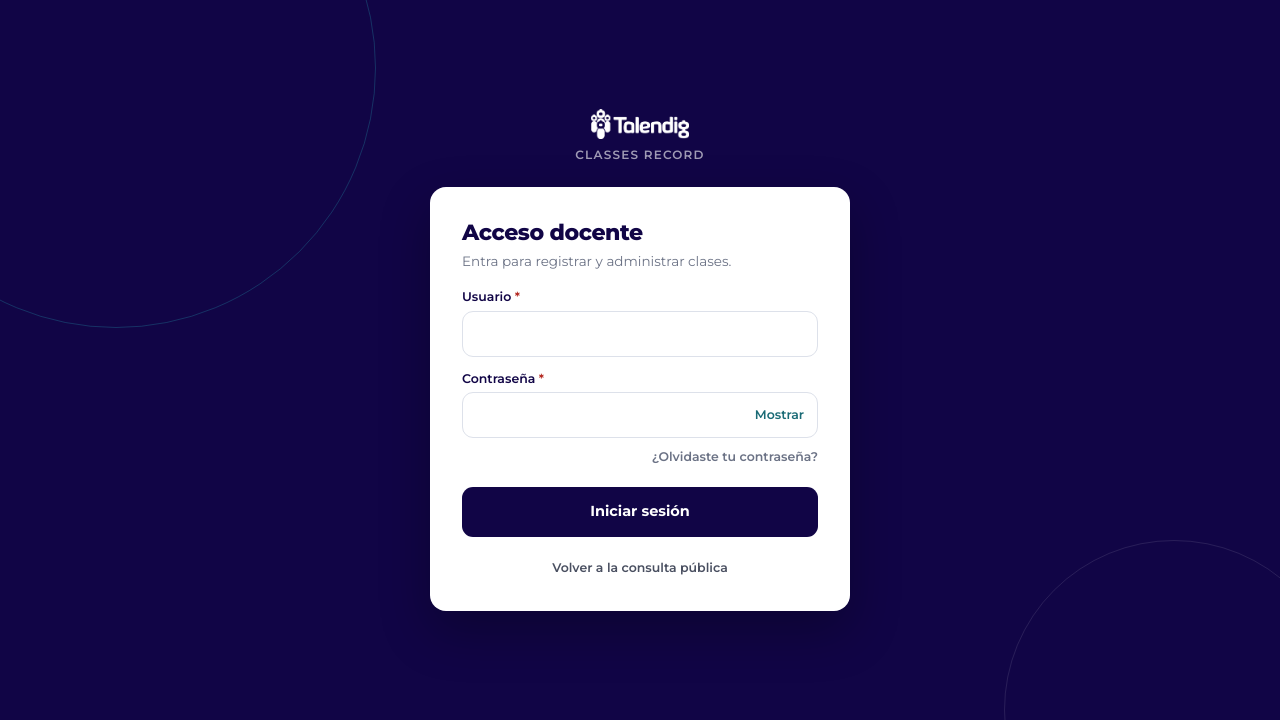
LoginPage › shows the rejection and clears the password after bad credentials
Type "yokasta.reyes" into the field labelled "Usuario *" at {"x": 640, "y": 334}, box [462, 310, 818, 356]
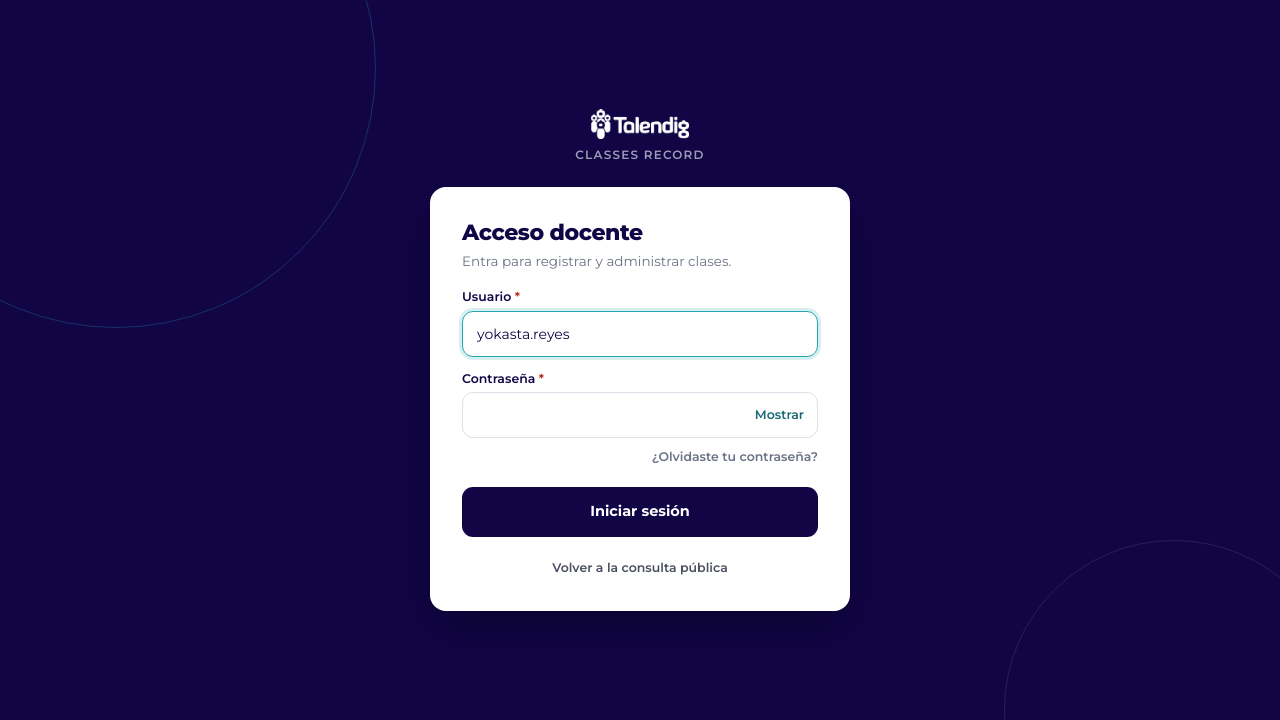
Type "incorrecta" into the password field labelled "Contraseña *" at {"x": 640, "y": 415}, box [462, 392, 818, 438]
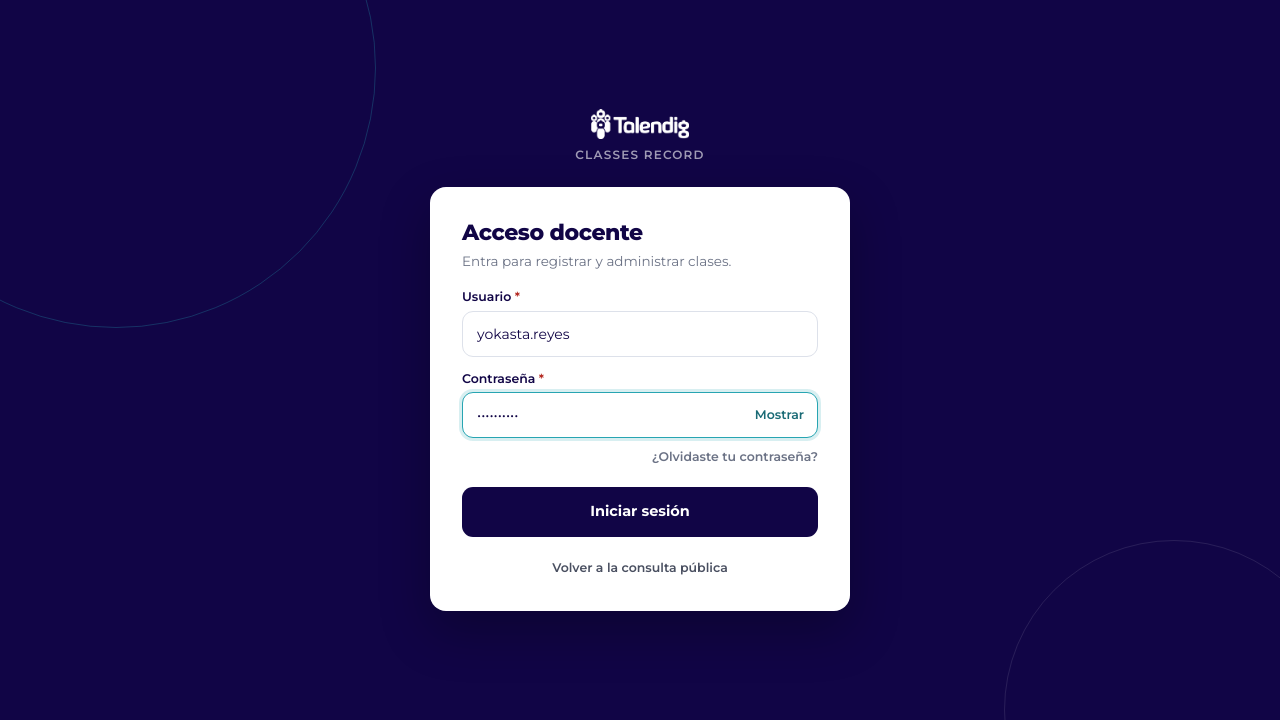
Click the button "Iniciar sesión" at {"x": 640, "y": 512}, box [462, 487, 818, 537]
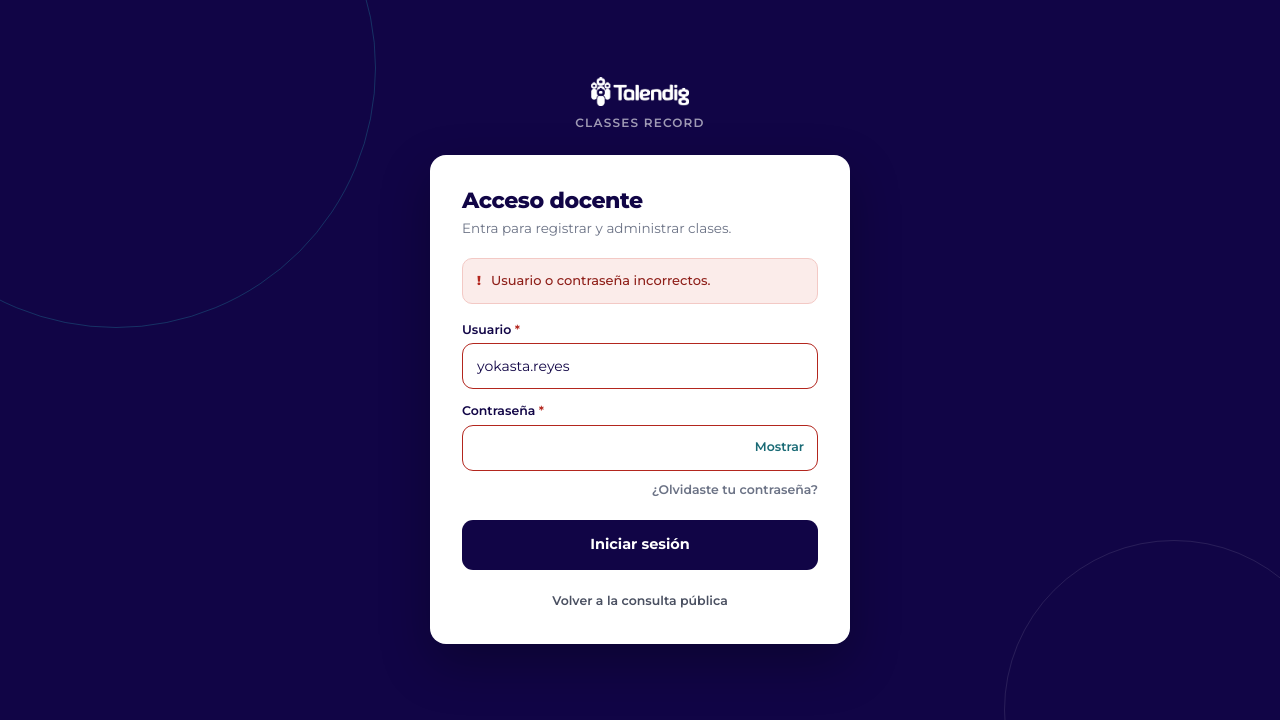
Expected: the text "Usuario o contraseña incorrectos." is shown, [491, 271, 710, 291]
Expected: the password field labelled "Contraseña *" is empty, [462, 425, 818, 471]
